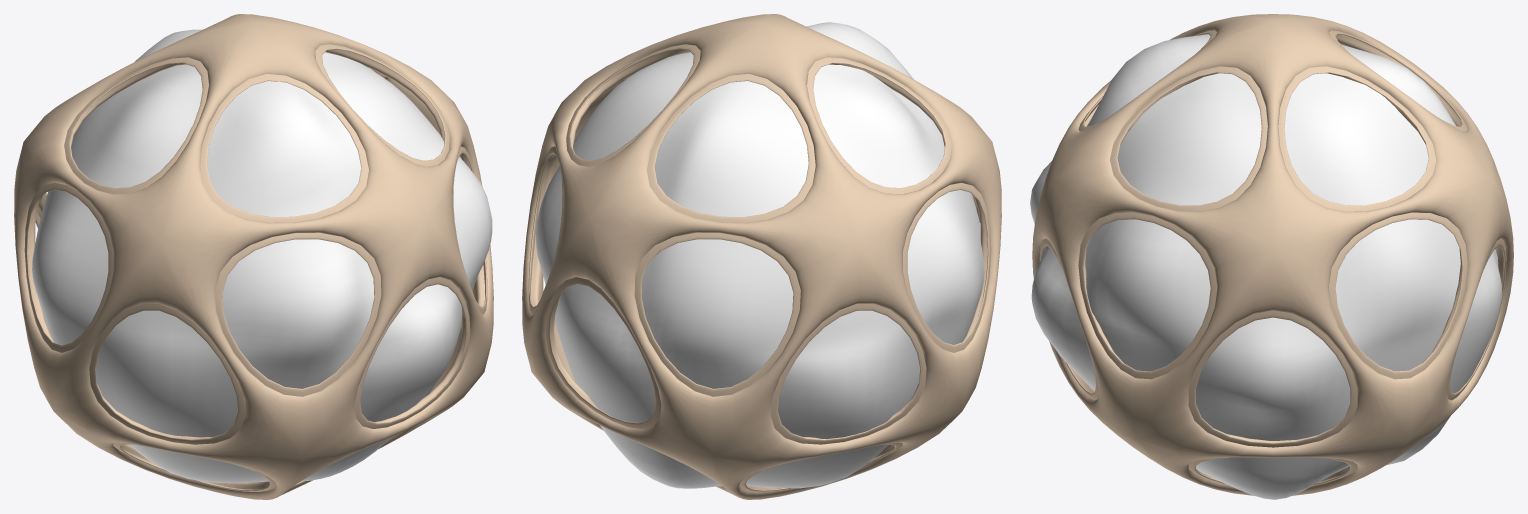
3 views of the same model, side by side, from view 1: azimuth 30°, elevation 25°; view 2: azimuth 150°, elevation 25°; view 3: azimuth 270°, elevation 25° (orthographic).
Visible parts, largest first — view 1: Roundcube.003; view 2: Roundcube.003; view 3: Roundcube.003.
Part boxes in pixels (box(x1,y1,x2,y2)): Roundcube.003: box(14, 14, 493, 499); Roundcube.003: box(522, 14, 1001, 499); Roundcube.003: box(1030, 14, 1513, 499).
Size of the model in its own units: 1.75 by 1.86 by 1.74.
